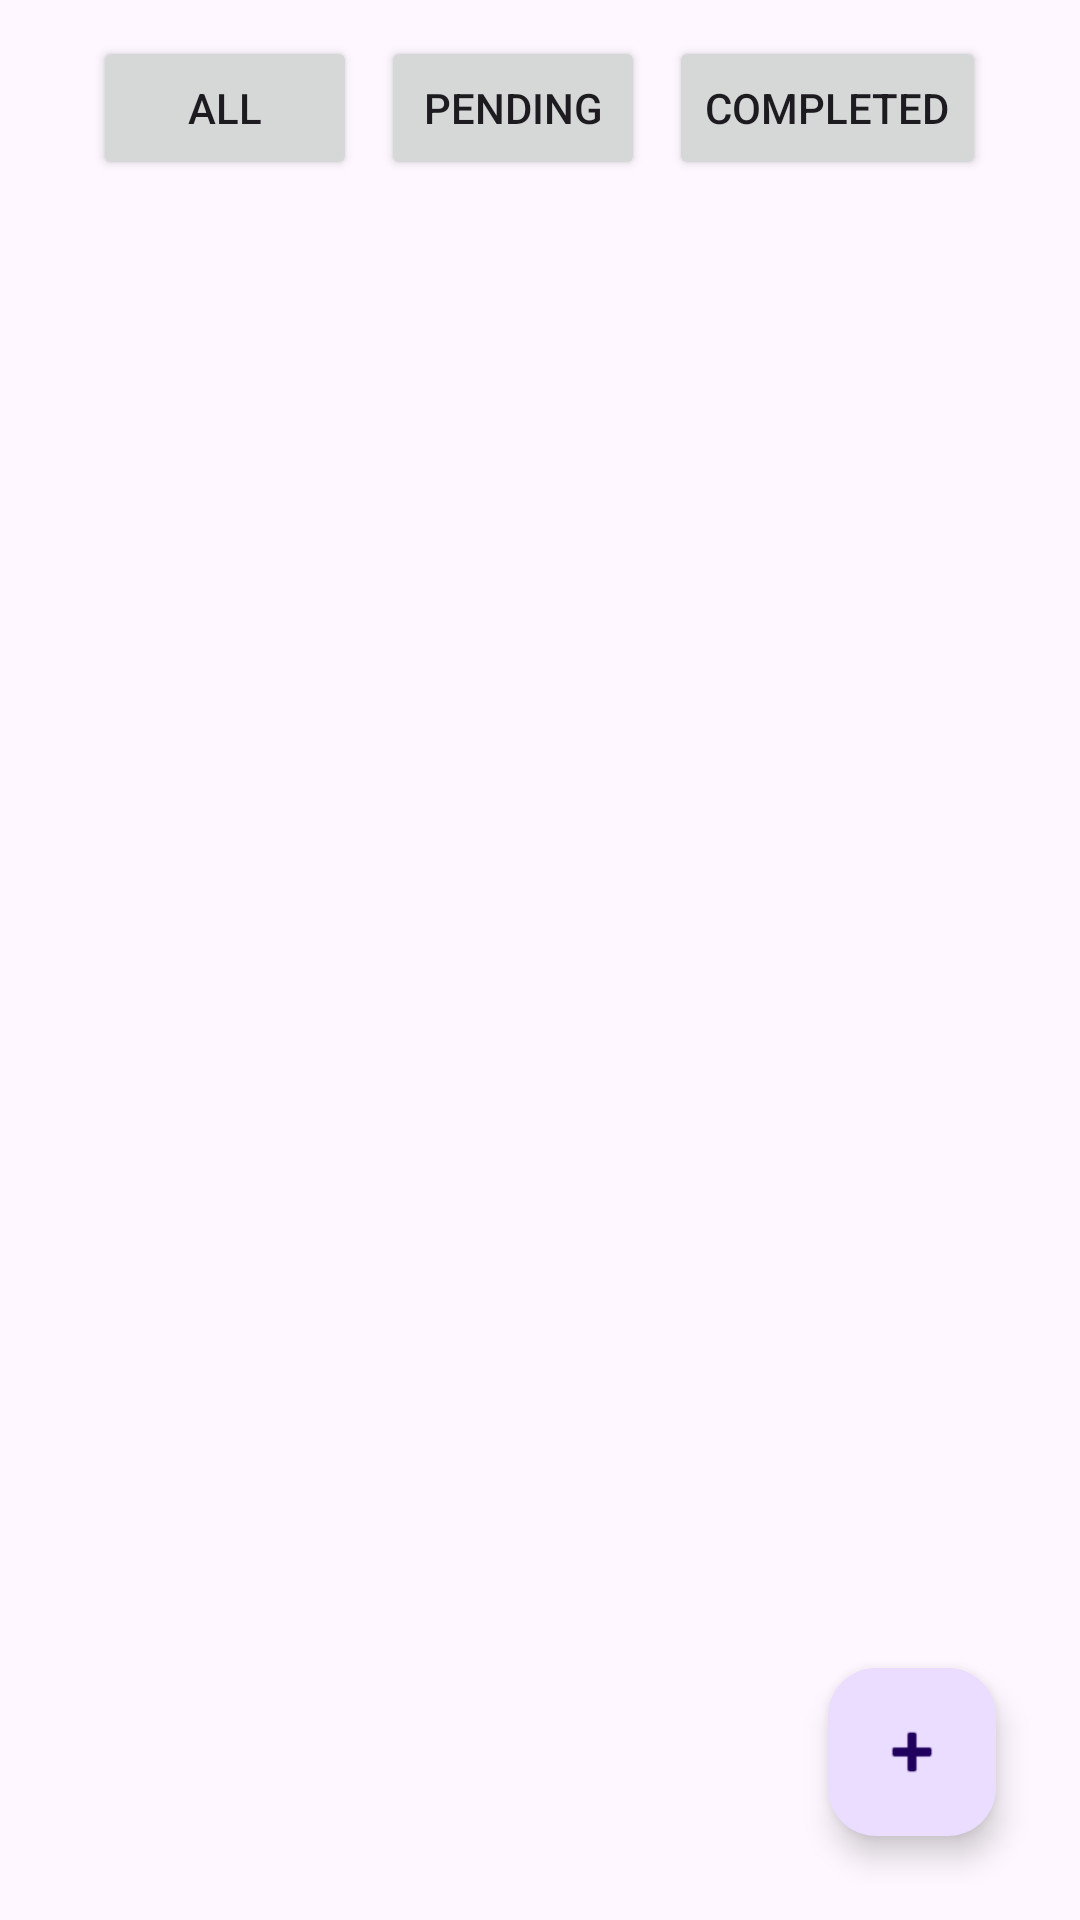

Icons on this 1080 × 1920 Android screen, each with its box as (x1, y1, x2, y2):
add: (828, 1668, 996, 1836)
